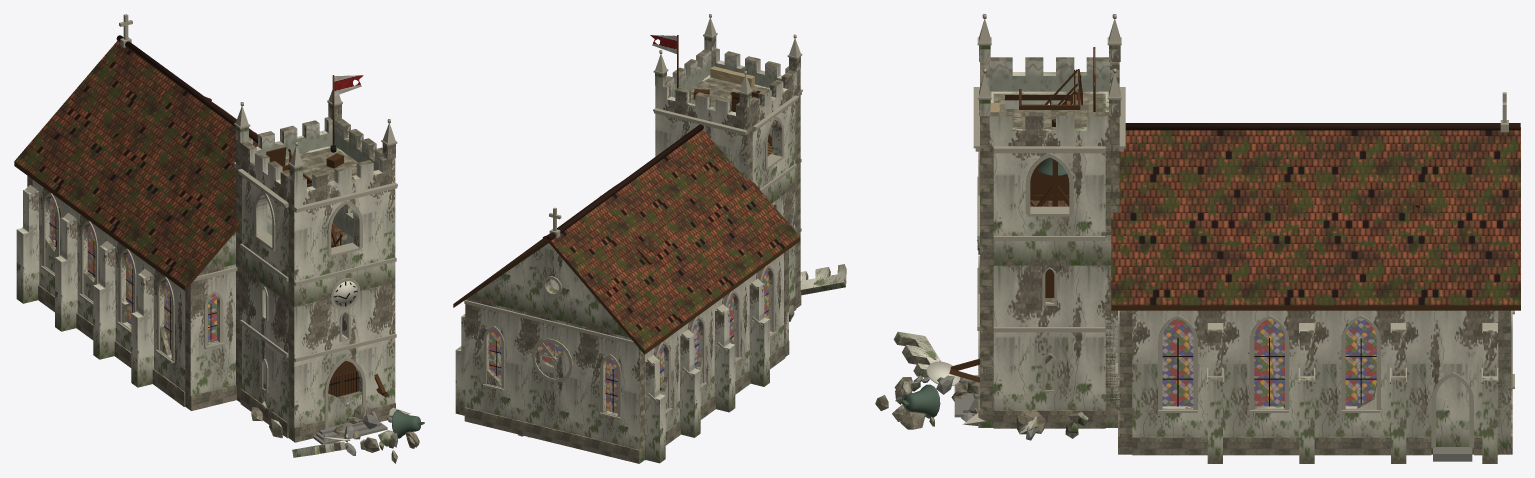
Rendered from kerk.glb.
3 views of the same model, side by side, from view 1: azimuth 30°, elevation 25°; view 2: azimuth 150°, elevation 25°; view 3: azimuth 270°, elevation 25° (orthographic). The views are drawn at different scales.
Visible parts, largest first — view 1: Dak_heel, Dak_kapot, M1V0_heel, RuineTorenMesh, M2V0_heel, S0V0_heel, M0V0_heel, S0W0_heel, S0W1_heel, S0W3_heel, S0W2_heel, M2W0_heel (+26 smaller); view 2: Dak_heel, Dak_kapot, RuineSchipMesh, S0A0_heel, S0A2_heel, S0W1_heel, S0W2_heel, S0W0_heel, S0W3_heel, S0A1_heel, M2W0_heel, M3A0_heel (+21 smaller); view 3: Dak_heel, Dak_kapot, RuineSchipMesh, S0O0_heel, S0O2_heel, S0O1_heel, RuineTorenMesh, M1O0_heel, M2O0_heel, M0O0_heel, S0O3_heel, M3O0_heel (+22 smaller).
Part boxes in pixels (x1,y1,x2,y2): Dak_heel: [14, 14, 257, 290]; Dak_kapot: [14, 41, 257, 285]; M1V0_heel: [288, 262, 396, 362]; RuineTorenMesh: [236, 221, 424, 463]; M2V0_heel: [288, 182, 397, 285]; S0V0_heel: [185, 266, 237, 410]; M0V0_heel: [288, 338, 395, 442]; S0W0_heel: [131, 264, 185, 406]; S0W1_heel: [93, 235, 147, 367]; S0W3_heel: [16, 180, 70, 312]; S0W2_heel: [55, 208, 108, 339]; M2W0_heel: [237, 169, 288, 281]; Dak_heel: [453, 124, 800, 354]; Dak_kapot: [467, 129, 799, 349]; RuineSchipMesh: [465, 311, 788, 463]; S0A0_heel: [581, 328, 644, 463]; S0A2_heel: [464, 300, 523, 435]; S0W1_heel: [714, 279, 750, 412]; S0W2_heel: [679, 304, 715, 437]; S0W0_heel: [749, 253, 785, 386]; S0W3_heel: [645, 329, 680, 463]; S0A1_heel: [522, 314, 581, 449]; M2W0_heel: [752, 95, 799, 192]; M3A0_heel: [653, 50, 752, 130]; Dak_heel: [1111, 92, 1520, 310]; Dak_kapot: [1111, 130, 1520, 305]; RuineSchipMesh: [1119, 347, 1510, 454]; S0O0_heel: [1132, 310, 1223, 463]; S0O2_heel: [1315, 310, 1406, 463]; S0O1_heel: [1223, 310, 1315, 463]; RuineTorenMesh: [875, 235, 1119, 440]; M1O0_heel: [993, 241, 1105, 332]; M2O0_heel: [993, 146, 1105, 240]; M0O0_heel: [993, 332, 1105, 428]; S0O3_heel: [1407, 310, 1498, 463]; M3O0_heel: [989, 112, 1109, 146].
Bounding box in the file's own units: 11.1 × 15.02 × 23.09.
21 materials, 8 textured.
